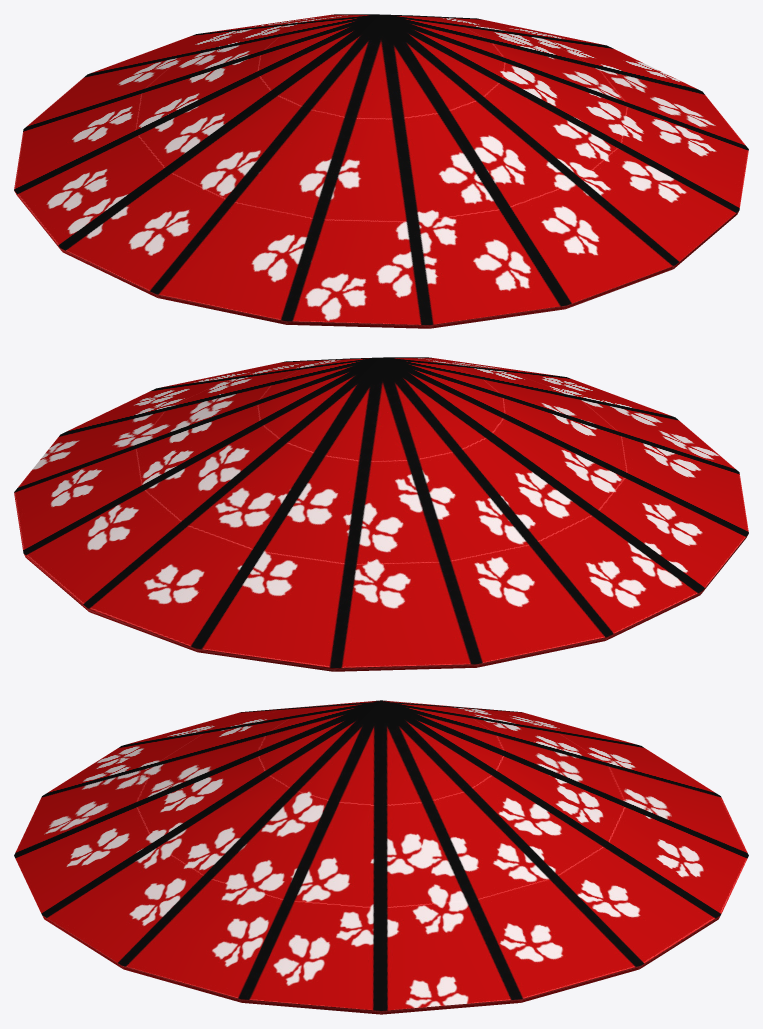
File: sombrilla.fbx
3 renders of one model, top to bottom at view 1: azimuth 30°, elevation 25°; view 2: azimuth 150°, elevation 25°; view 3: azimuth 270°, elevation 25°, orthographic.
Visible parts, largest first — view 1: Cone001; view 2: Cone001; view 3: Cone001.
Part boxes in pixels (x1,y1,x2,y2): Cone001: (14,14,748,328); Cone001: (14,357,748,671); Cone001: (14,700,748,1014).
Bounding box in the file's own units: 216 × 51.34 × 216.
Materials: 1 (1 with a texture image).
